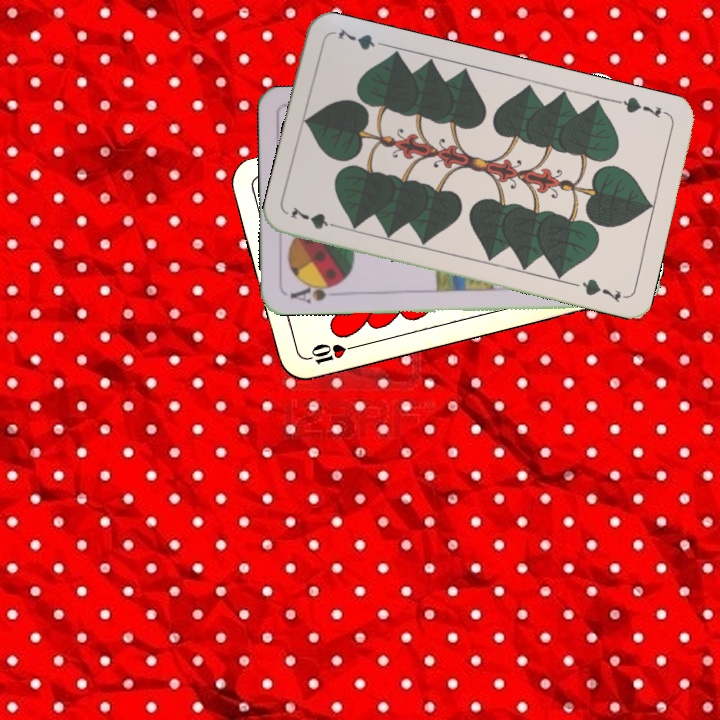G7: (286, 202, 345, 232), (612, 92, 671, 121)
H10: (301, 339, 359, 367)
SA: (286, 279, 344, 306)
